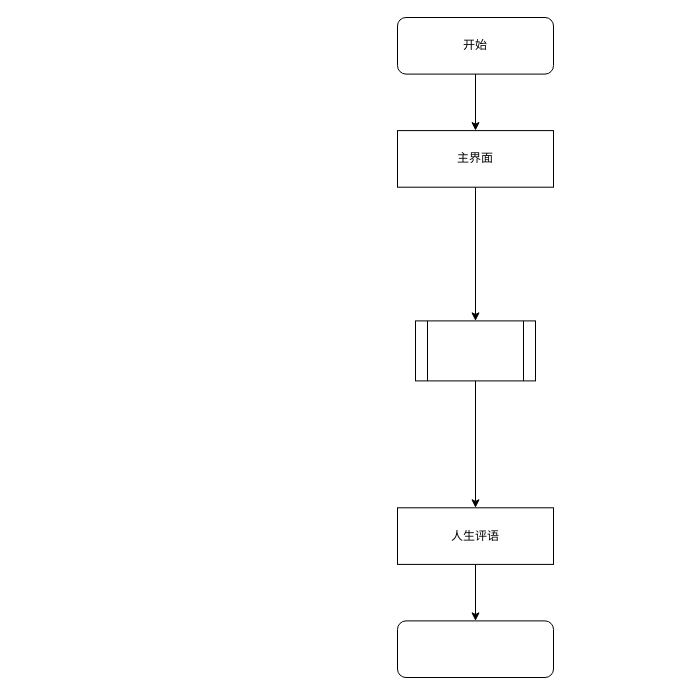
This 694x695 diagram has some shape labels left out. The shapes that lost their labels are listed below. From the top down, each one's centre as x and y in pixels, then its label:
point 475,350: 游戏
point 475,649: 结束
